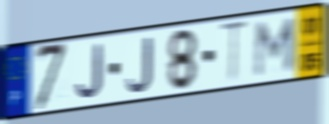7: (33, 41, 69, 115)
8: (166, 27, 199, 93)
J: (74, 43, 105, 101), (125, 35, 154, 94)
M: (252, 16, 299, 80)
T: (217, 18, 251, 86)
